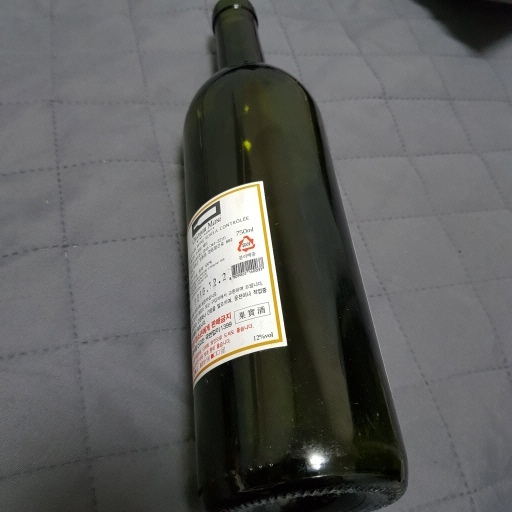Glass_2: (172, 2, 407, 512)
